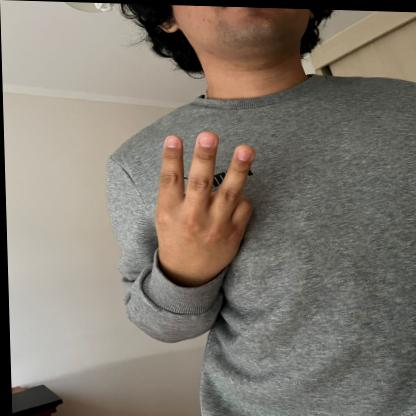W: (147, 123, 261, 286)
